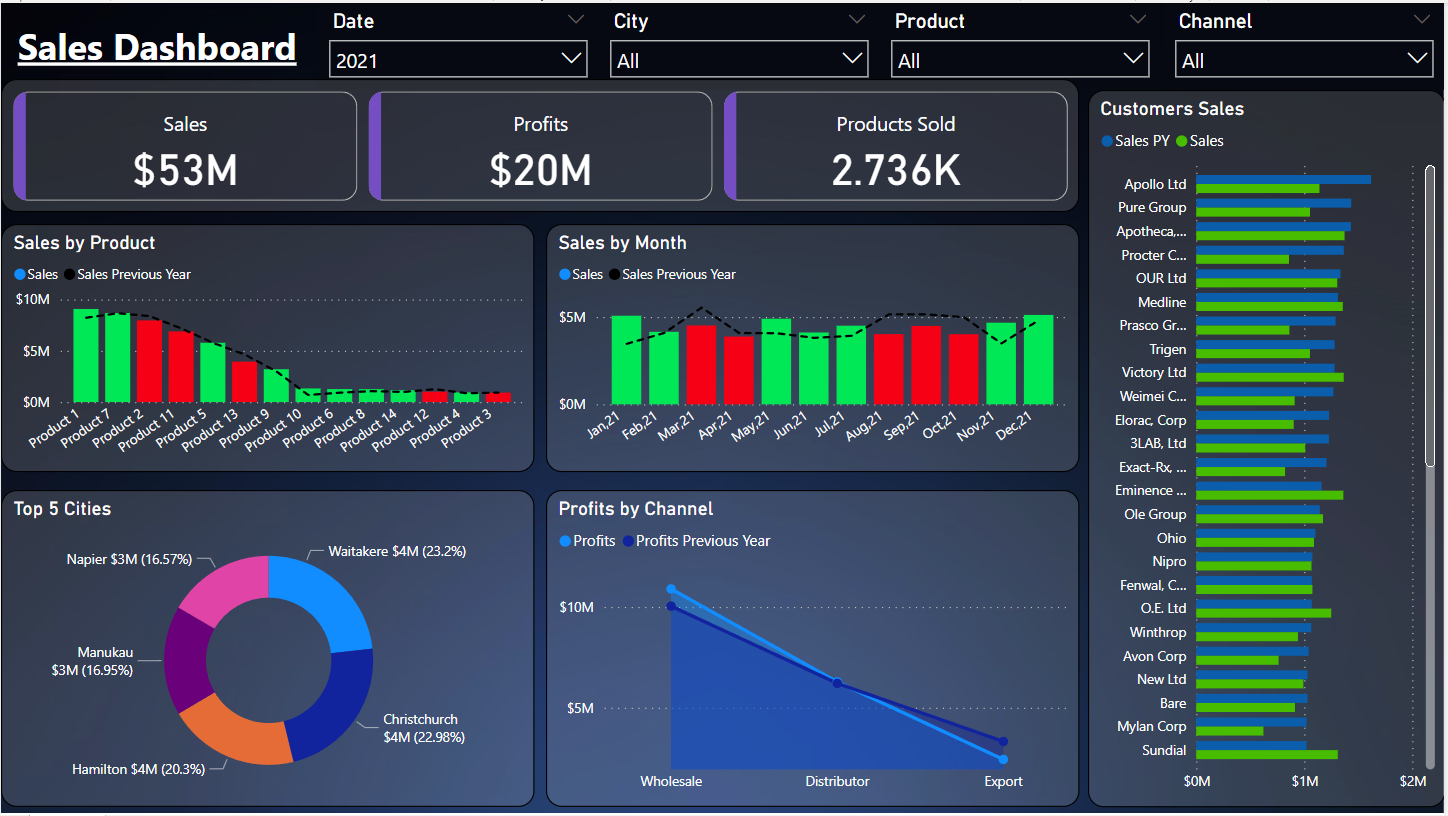

The page's visual inventory and layout, read from the dashboard file:
{"tool":"powerbi","page":{"name":"Page 1","canvas":[1280,720],"ordinal":0},"visuals":[{"type":"slicer","fields":{"Values":["DateTable.Year","DateTable.Month Short Name Plus Year"]},"box":[281.1,0,249.2,77.1],"z":0},{"type":"slicer","fields":{"Values":["Sales_Transaction.City"]},"box":[530.2,0,249.2,77.1],"z":1000},{"type":"textbox","box":[9.8,10.6,318.3,56.7],"z":2000},{"type":"slicer","fields":{"Values":["Sales_Transaction.Product_Name"]},"box":[779.4,0,249.2,77.1],"z":3000},{"type":"slicer","fields":{"Values":["Sales_Transaction.Channel"]},"box":[1031.2,0,249.2,77.1],"z":4000},{"type":"lineClusteredColumnComboChart","title":"Sales by Product","fields":{"Category":["Sales_Transaction.Product_Name"],"Y":["Measure Table.Sales"],"Y2":["Measure Table.Sales PY"]},"box":[0,196,472.6,219.9],"z":5000},{"type":"lineClusteredColumnComboChart","title":"Sales by Month","fields":{"Y":["Measure Table.Sales"],"Y2":["Measure Table.Sales PY"],"Category":["DateTable.Month Short Name Plus Year"]},"box":[483.3,196,472.6,219.9],"z":6000},{"type":"donutChart","title":"Top 5 Cities","fields":{"Y":["Measure Table.Sales"],"Category":["Sales_Transaction.City"]},"box":[0,431.8,472.6,281.1],"z":7000},{"type":"areaChart","title":"Profits by Channel","fields":{"Category":["Sales_Transaction.Channel"],"Y":["Measure Table.Profits","Measure Table.Profits PY"]},"box":[483.3,431.8,473.5,281.1],"z":8000},{"type":"clusteredBarChart","title":"Customers Sales","fields":{"Y":["Measure Table.Sales PY","Measure Table.Sales"],"Category":["Sales_Transaction.Customer_Names"]},"box":[963.8,77.1,316.6,635.8],"z":9000},{"type":"cardVisual","fields":{"Data":["Measure Table.Sales","Measure Table.Profits","CountNonNull(Sales_Transaction.Product_Name)"]},"box":[0,67.4,955.9,117.9],"z":10000}]}

Visuals, with their boxes in screenshot pixels (x1, y1, x2, y2), scaled from the page's 1280x720 canvas onto the 1448x816 screenshot:
slicer - DateTable.Year x DateTable.Month Short Name Plus Year: 318, 0, 600, 87
slicer - Sales_Transaction.City: 600, 0, 882, 87
textbox: 11, 12, 371, 76
slicer - Sales_Transaction.Product_Name: 882, 0, 1164, 87
slicer - Sales_Transaction.Channel: 1167, 0, 1447, 87
"Sales by Product" lineClusteredColumnComboChart: 0, 222, 535, 471
"Sales by Month" lineClusteredColumnComboChart: 547, 222, 1081, 471
"Top 5 Cities" donutChart: 0, 489, 535, 808
"Profits by Channel" areaChart: 547, 489, 1082, 808
"Customers Sales" clusteredBarChart: 1090, 87, 1447, 808
cardVisual - Measure Table.Sales x Measure Table.Profits: 0, 76, 1081, 210
